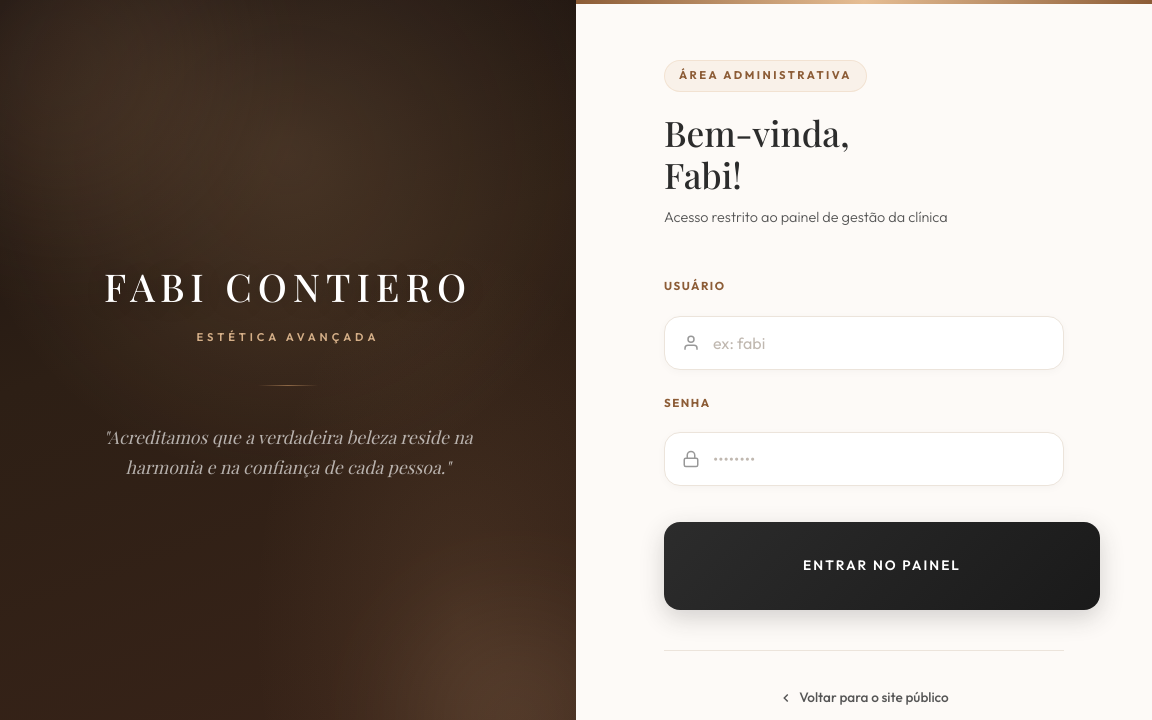
it: Componente Login › Mostra erro se a requisição de login falhar (credenciais inválidas)
This screenshot has width=1152, height=720.
Type "wrong_user" into the field with placeholder "ex: fabi". click: point(864, 343)
box: x1=664 y1=316 x2=1064 y2=370
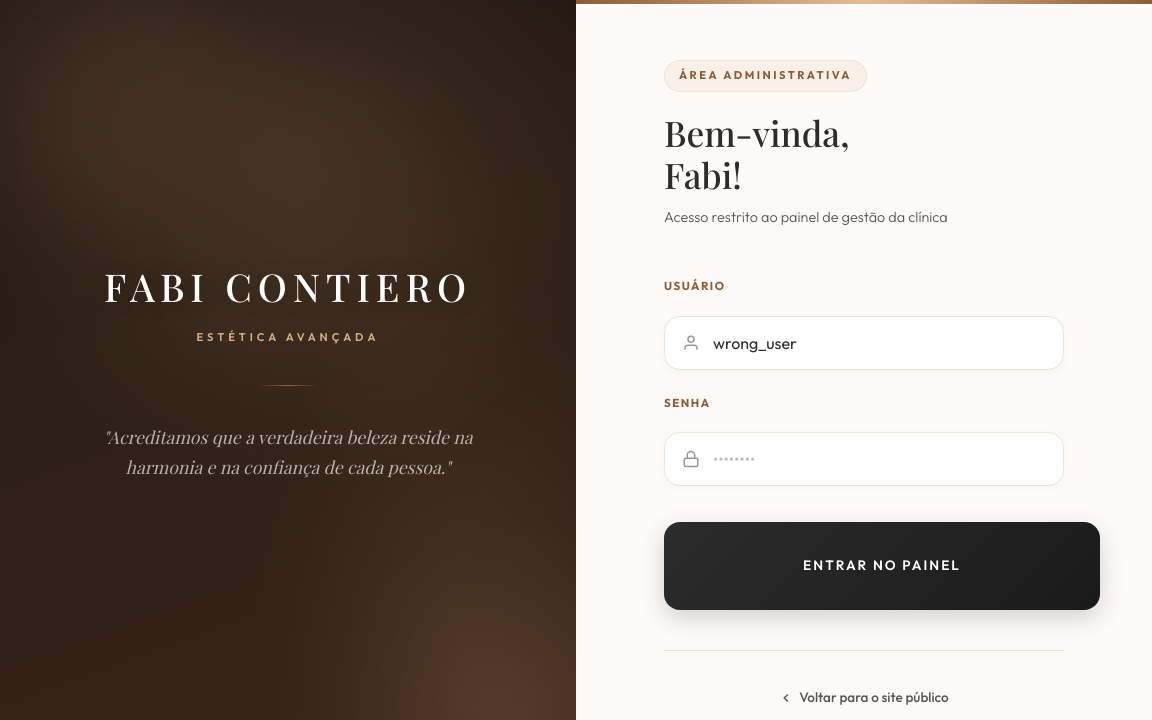
Type "wrong_password" into the password field with placeholder "••••••••". click: point(864, 459)
box: x1=664 y1=432 x2=1064 y2=486
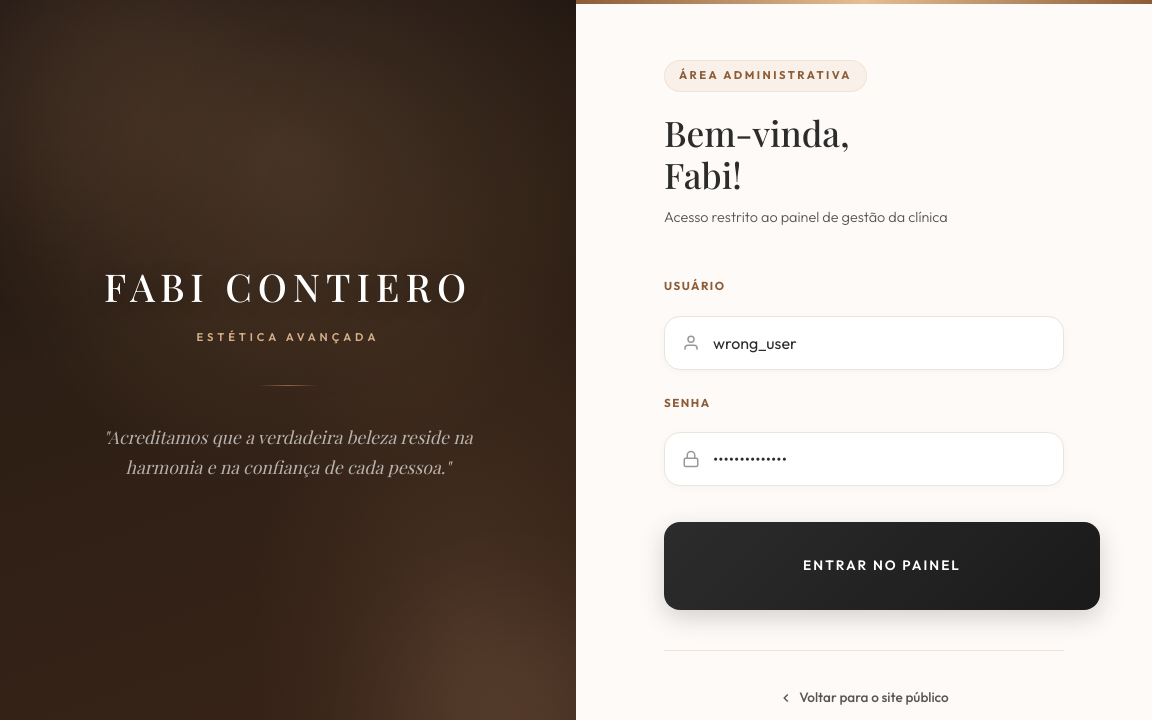
Click the button "Entrar no Painel". click: point(882, 566)
box: x1=664 y1=522 x2=1100 y2=610
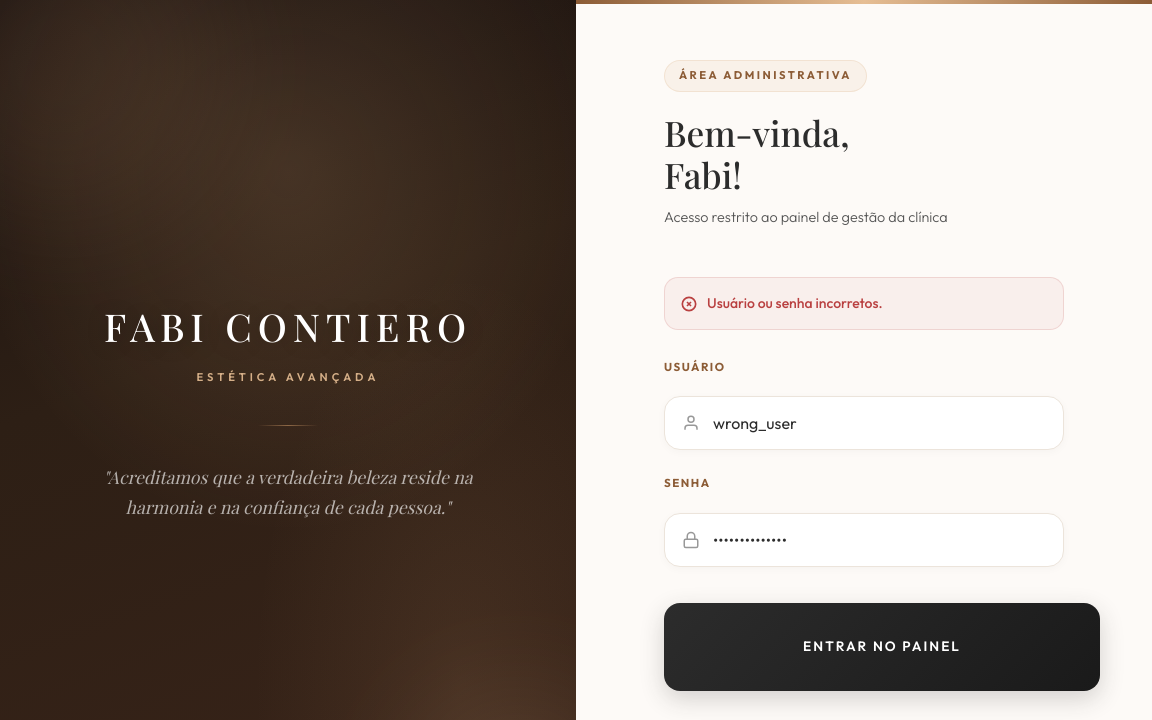
Expected: the text "Usuário ou senha incorretos." is shown, x1=664 y1=277 x2=1064 y2=330
